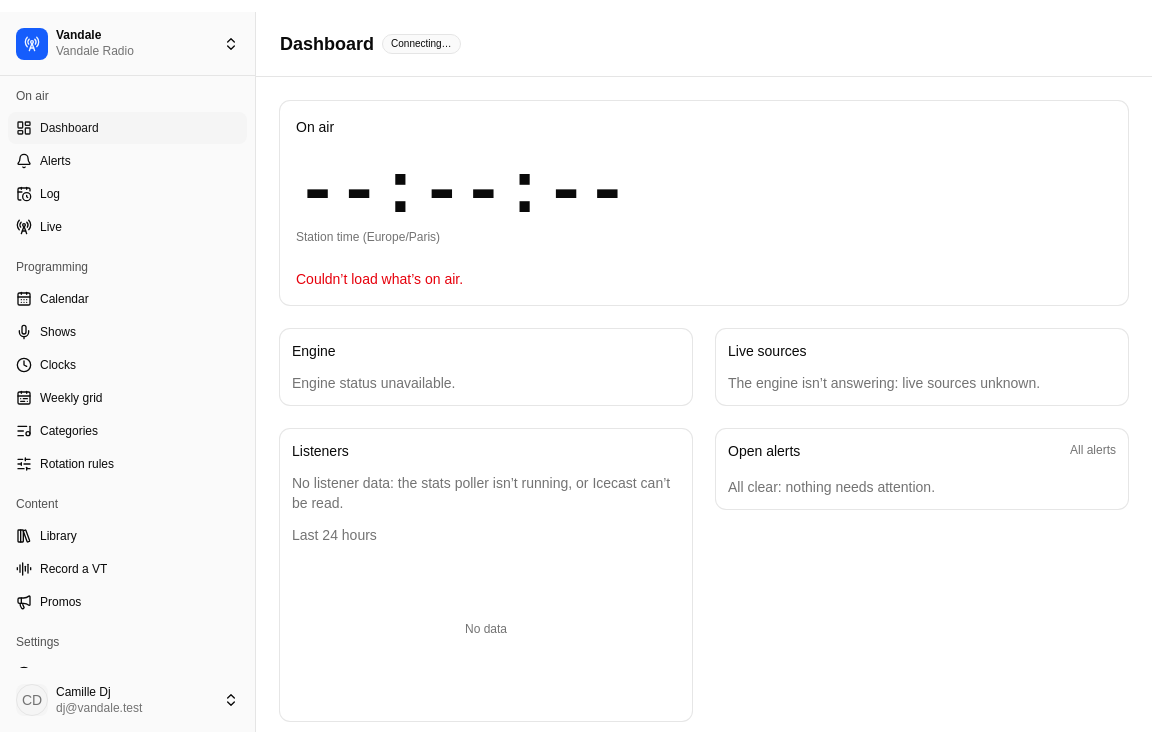
Test: categories › lists categories with their counts, from the nav
What coordinates should you click on to do the following:
click the link "Categories"
I would click on:
 (57, 431)
Its box is [16,423,98,439].
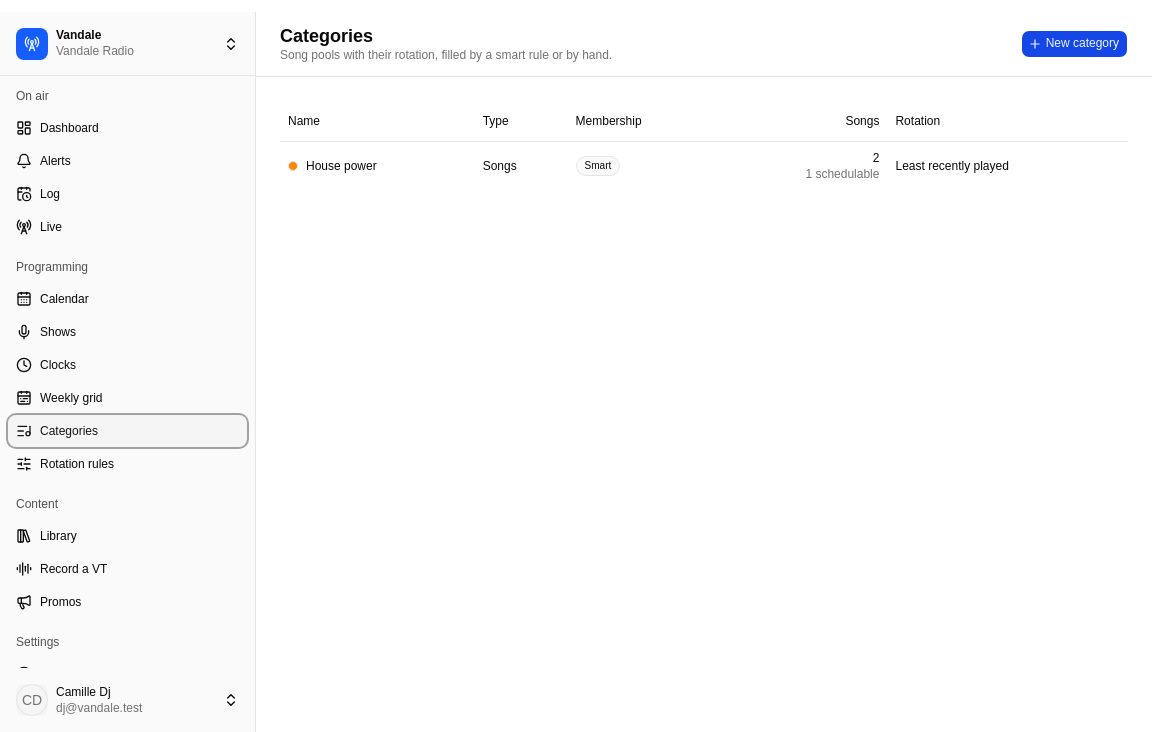
Result: the row "House power" is shown at [280,141,1128,190]
Result: the icon "Smart" is shown at [576,156,620,176]
Result: the text "1 schedulable" is shown at [805,166,880,180]
